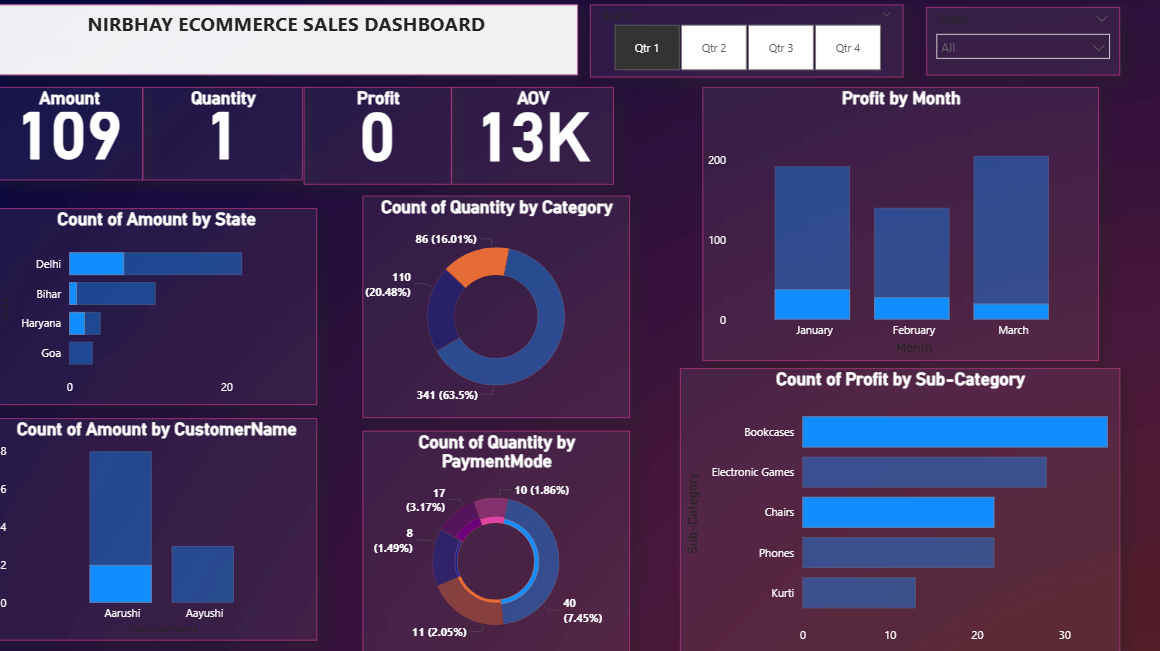

Layout of this report page (visuals, bound fields, positions):
{"tool":"powerbi","page":{"name":"Page 1","canvas":[1280,720],"ordinal":0},"visuals":[{"type":"textbox","box":[0,8.8,640,77.5],"z":0},{"type":"columnChart","title":"Profit by Month","fields":{"Category":["Orders.Order Date.Variation.Date Hierarchy.Month"],"Y":["CountNonNull(Details.Profit)"]},"box":[706.2,98.8,435,300],"z":1000},{"type":"barChart","fields":{"Category":["Details.Sub-Category"],"Y":["CountNonNull(Details.Profit)"]},"box":[706.2,407.5,435,312.5],"z":2000},{"type":"donutChart","fields":{"Category":["Details.Category"],"Y":["CountNonNull(Details.Quantity)"]},"box":[387.5,218.8,292.5,243.8],"z":3000},{"type":"donutChart","fields":{"Category":["Details.PaymentMode"],"Y":["CountNonNull(Details.Quantity)"]},"box":[387.5,476.2,292.5,243.8],"z":4000},{"type":"card","title":"Amount","fields":{"Values":["Min(Details.Amount)"]},"box":[0,98.8,162.5,102.5],"z":5000},{"type":"card","title":"Quantity","fields":{"Values":["Min(Details.Quantity)"]},"box":[162.5,98.8,176.2,102.5],"z":6000},{"type":"card","title":"Profit","fields":{"Values":["Min(Details.Profit)"]},"box":[338.8,98.8,162.5,107.5],"z":7000},{"type":"card","title":"AOV","fields":{"Values":["Sum(Details.AOV)"]},"box":[501.2,98.8,178.8,107.5],"z":8000},{"type":"barChart","fields":{"Category":["Orders.State"],"Y":["CountNonNull(Details.Amount)"]},"box":[0,232.5,353.8,216.2],"z":9000},{"type":"columnChart","fields":{"Category":["Orders.CustomerName"],"Y":["CountNonNull(Details.Amount)"]},"box":[0,462.5,353.8,243.8],"z":10000},{"type":"slicer","fields":{"Values":["Orders.Order Date.Variation.Date Hierarchy.Quarter"]},"box":[652.5,8.8,343.8,80],"z":12001},{"type":"slicer","fields":{"Values":["Orders.State"]},"box":[1022.5,11.2,118.8,75],"z":12002}]}

Visuals, with their boxes in screenshot pixels (x1, y1, x2, y2), scaled from the page's 1280x720 canvas onto the 1160x651 screenshot:
textbox: l=0, t=8, r=580, b=78
"Profit by Month" columnChart: l=640, t=89, r=1034, b=361
barChart - Details.Sub-Category x CountNonNull(Details.Profit): l=640, t=368, r=1034, b=650
donutChart - Details.Category x CountNonNull(Details.Quantity): l=351, t=198, r=616, b=418
donutChart - Details.PaymentMode x CountNonNull(Details.Quantity): l=351, t=431, r=616, b=650
"Amount" card: l=0, t=89, r=147, b=182
"Quantity" card: l=147, t=89, r=307, b=182
"Profit" card: l=307, t=89, r=454, b=187
"AOV" card: l=454, t=89, r=616, b=187
barChart - Orders.State x CountNonNull(Details.Amount): l=0, t=210, r=321, b=406
columnChart - Orders.CustomerName x CountNonNull(Details.Amount): l=0, t=418, r=321, b=639
slicer - Orders.Order Date.Variation.Date Hierarchy.Quarter: l=591, t=8, r=903, b=80
slicer - Orders.State: l=927, t=10, r=1034, b=78
